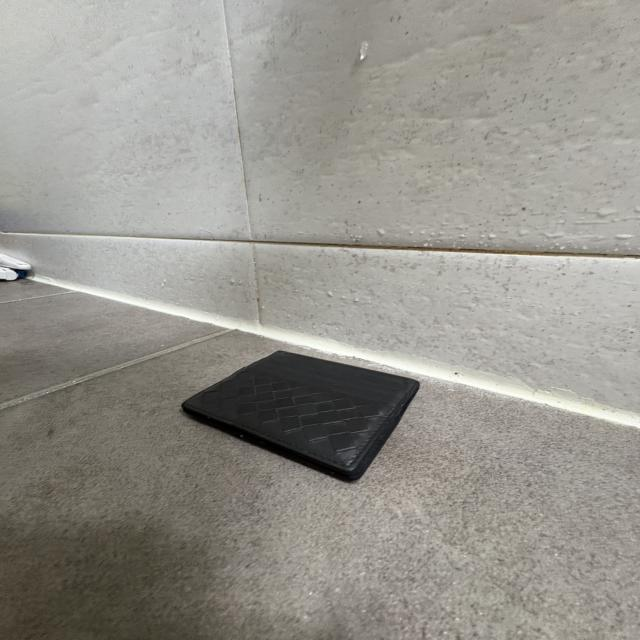wallet: (184, 349, 424, 484)
